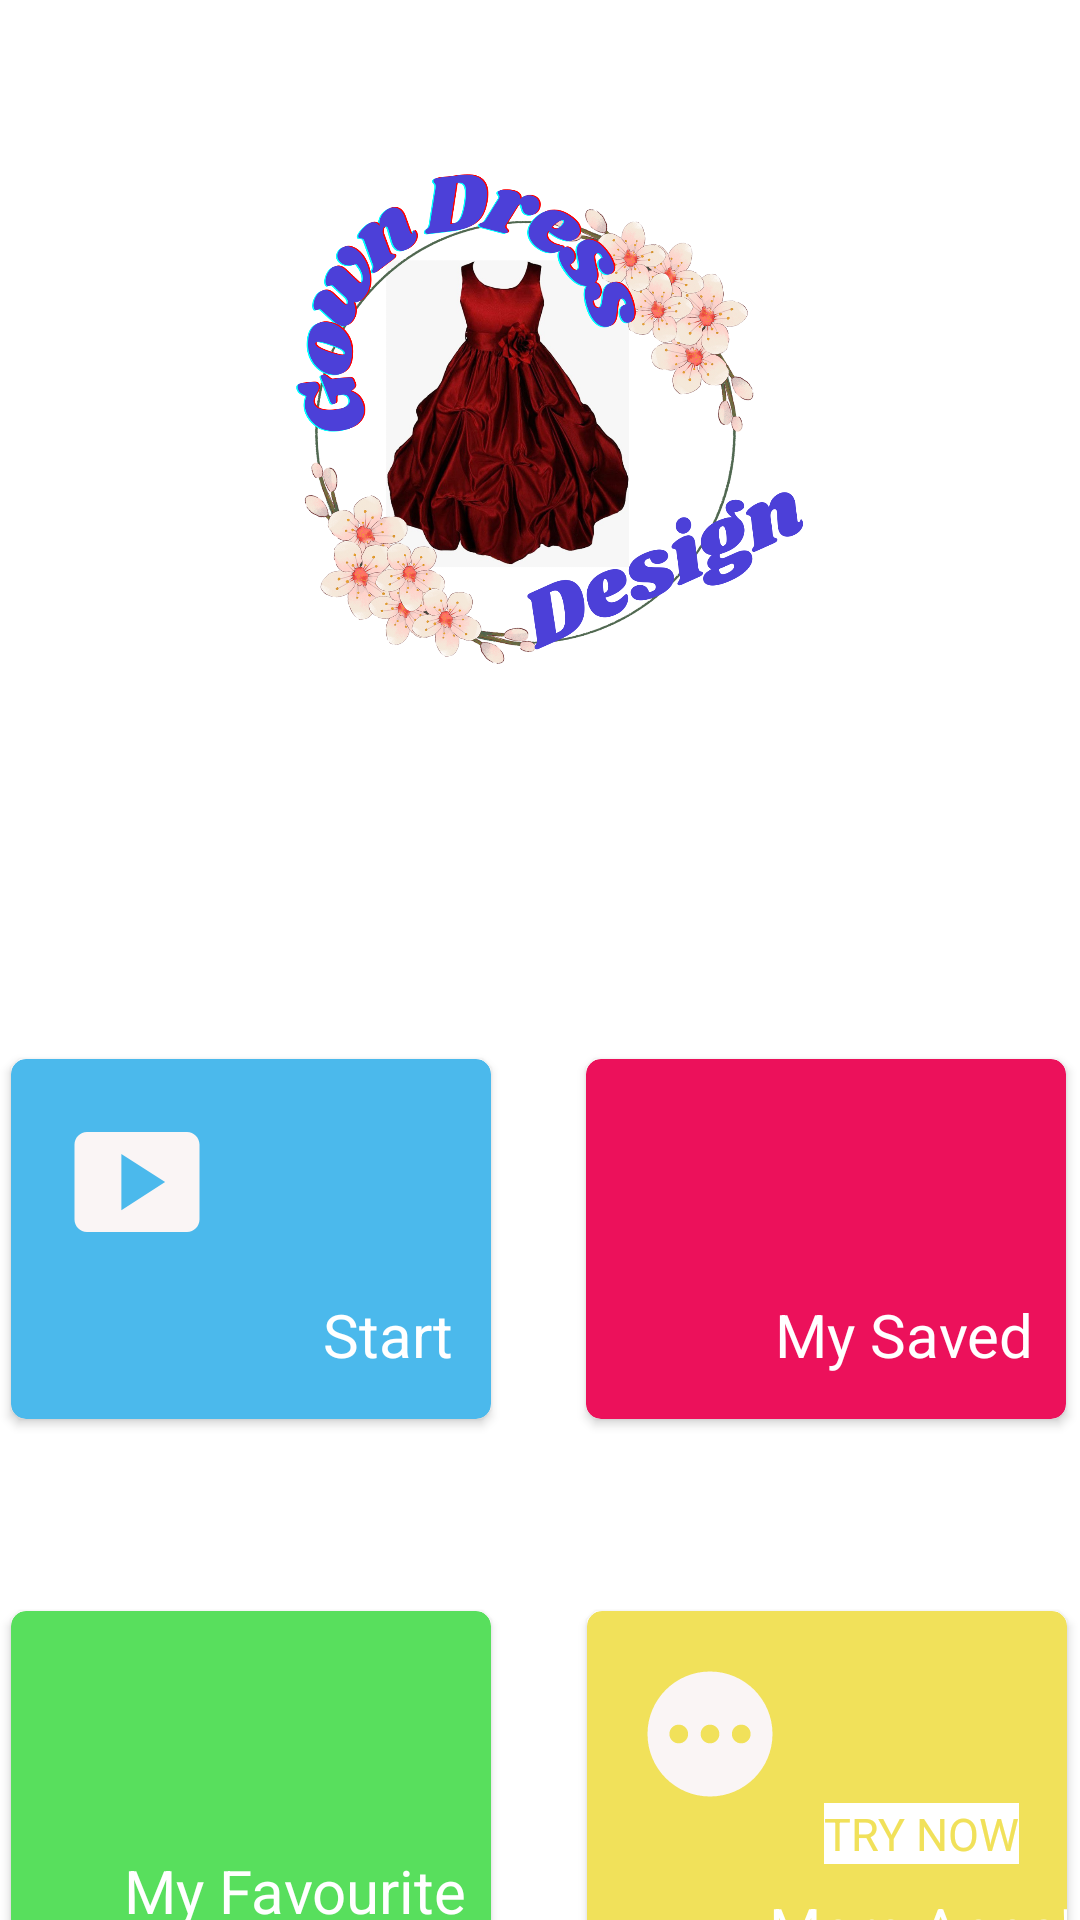

Where icons sit on this 1080 × 1920 app screen, as detection(x1, y1, x2, y2):
pending: detection(647, 1671, 773, 1797)
